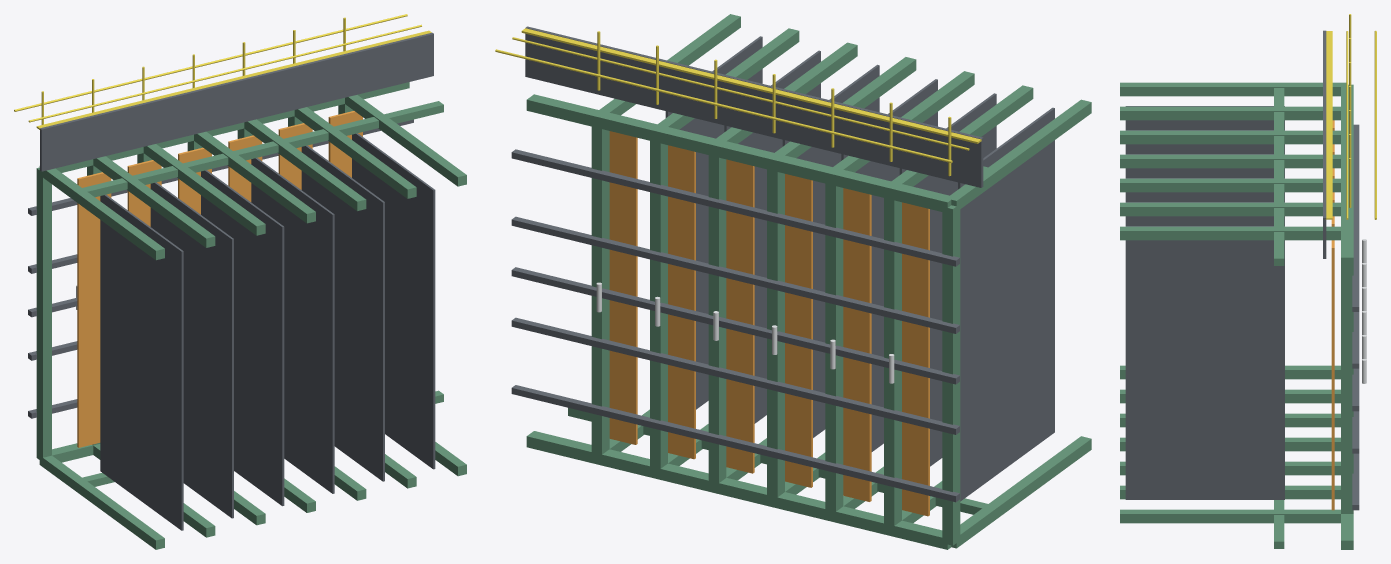
File: bin_sorter.glb
The picture shows the model from 3 angles, left to right: view 1: azimuth 30°, elevation 25°; view 2: azimuth 150°, elevation 25°; view 3: azimuth 270°, elevation 25°; orthographic projection. The views are drawn at different scales.
Parts seen in each view (by area): view 1: BinWall_Left_Bay0, CatwalkFloor, BinWall_Left_Bay5, BinWall_Left_Bay2, BinWall_Left_Bay3, BinWall_Left_Bay1, BinWall_Left_Bay4, DropGate_Bay0, CrossBeam_X-0.5, MidBeam_Z2.8, Column_X-0.5_Z-2.8, Column_X-0.5_Z2.8 (+23 smaller); view 2: BinWall_Left_Bay0, CatwalkFloor, TopBeam_Z2.8, DropGate_Bay3, DropGate_Bay1, DropGate_Bay5, DropGate_Bay0, DropGate_Bay4, DropGate_Bay2, TopBeam_Z-2.8, CrossBeam_X-0.5, CrossBeam_X5.5 (+27 smaller); view 3: BinWall_Left_Bay5, Column_X5.5_Z-2.8, Column_X5.5_Z2.8, Column_X1.5_Z2.8, Column_X2.5_Z2.8, Column_X3.5_Z2.8, Column_X4.5_Z2.8, Column_X-0.5_Z2.8, Column_X0.5_Z2.8, CrossBeam_X5.5, TopBeam_Z2.8, BinWall_Left_Bay0 (+23 smaller).
Part boxes in pixels (left/top/right/bottom): BinWall_Left_Bay0: left=100, top=194, right=183, bottom=530; CatwalkFloor: left=40, top=32, right=433, bottom=171; BinWall_Left_Bay5: left=352, top=133, right=435, bottom=469; BinWall_Left_Bay2: left=201, top=170, right=284, bottom=506; BinWall_Left_Bay3: left=251, top=158, right=334, bottom=493; BinWall_Left_Bay1: left=150, top=182, right=233, bottom=518; BinWall_Left_Bay4: left=301, top=145, right=384, bottom=481; DropGate_Bay0: left=77, top=172, right=111, bottom=447; CrossBeam_X-0.5: left=36, top=167, right=51, bottom=461; MidBeam_Z2.8: left=82, top=101, right=443, bottom=197; Column_X-0.5_Z-2.8: left=39, top=455, right=164, bottom=549; Column_X-0.5_Z2.8: left=39, top=166, right=164, bottom=260; BinWall_Left_Bay0: left=958, top=107, right=1054, bottom=501; CatwalkFloor: left=525, top=26, right=983, bottom=187; TopBeam_Z2.8: left=526, top=94, right=953, bottom=212; DropGate_Bay3: left=726, top=159, right=754, bottom=473; DropGate_Bay1: left=843, top=188, right=871, bottom=501; DropGate_Bay5: left=609, top=131, right=637, bottom=444; DropGate_Bay0: left=902, top=202, right=929, bottom=516; DropGate_Bay4: left=668, top=145, right=695, bottom=459; DropGate_Bay2: left=785, top=174, right=812, bottom=487; TopBeam_Z-2.8: left=526, top=431, right=951, bottom=549; CrossBeam_X-0.5: left=942, top=205, right=960, bottom=545; CrossBeam_X5.5: left=591, top=121, right=609, bottom=459; BinWall_Left_Bay5: left=1125, top=226, right=1284, bottom=499; Column_X5.5_Z-2.8: left=1120, top=509, right=1340, bottom=523; Column_X5.5_Z2.8: left=1120, top=226, right=1347, bottom=240; Column_X1.5_Z2.8: left=1120, top=130, right=1346, bottom=144; Column_X2.5_Z2.8: left=1120, top=154, right=1346, bottom=168; Column_X3.5_Z2.8: left=1120, top=178, right=1346, bottom=192; Column_X4.5_Z2.8: left=1120, top=202, right=1346, bottom=216; Column_X-0.5_Z2.8: left=1120, top=82, right=1346, bottom=96; Column_X0.5_Z2.8: left=1120, top=106, right=1346, bottom=120; CrossBeam_X5.5: left=1341, top=267, right=1353, bottom=513; TopBeam_Z2.8: left=1341, top=84, right=1353, bottom=266; BinWall_Left_Bay0: left=1125, top=106, right=1284, bottom=129.
Size of the model in its own units: 7.8 by 7.04 by 4.52.
